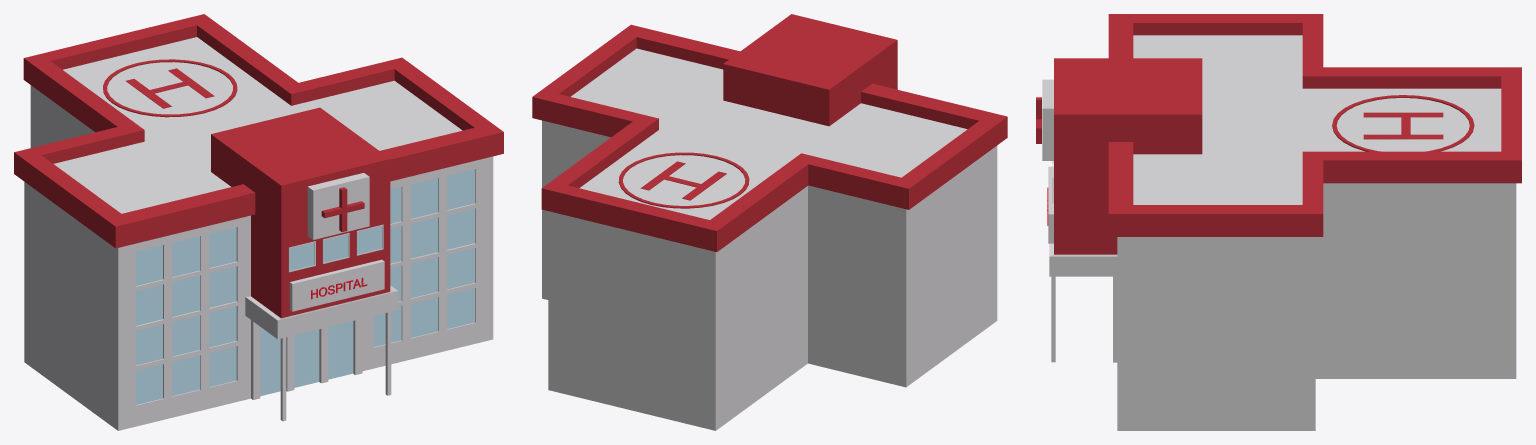
The model's file is Hospital.fbx.
The picture shows the model from 3 angles, left to right: view 1: azimuth 30°, elevation 25°; view 2: azimuth 150°, elevation 25°; view 3: azimuth 270°, elevation 25°; orthographic projection. The views are drawn at different scales.
Parts seen in each view (by area): view 1: Cube.037, Cube.039, Cube.038, Circle, Plane.037, Plane.041, Plane.058, Plane.062, Plane.047, Plane.044, Plane.048, Plane.042 (+18 smaller); view 2: Cube.037, Circle, Text.003; view 3: Cube.037, Text.003, Circle, Cube.039, Cube.038.
Boxes of the visible parts, x1=… form: Cube.037: x1=14, y1=14, x2=503, y2=430; Cube.039: x1=307, y1=173, x2=369, y2=239; Cube.038: x1=289, y1=259, x2=384, y2=311; Circle: x1=103, y1=59, x2=237, y2=117; Plane.037: x1=172, y1=275, x2=199, y2=316; Plane.041: x1=209, y1=266, x2=236, y2=307; Plane.058: x1=411, y1=217, x2=438, y2=258; Plane.062: x1=447, y1=208, x2=474, y2=249; Plane.047: x1=135, y1=284, x2=162, y2=325; Plane.044: x1=172, y1=315, x2=199, y2=356; Plane.048: x1=135, y1=324, x2=162, y2=365; Plane.042: x1=209, y1=306, x2=236, y2=347; Cube.037: x1=532, y1=14, x2=1007, y2=430; Circle: x1=618, y1=152, x2=749, y2=208; Text.003: x1=640, y1=161, x2=726, y2=200; Cube.037: x1=1049, y1=14, x2=1521, y2=430; Text.003: x1=1363, y1=112, x2=1443, y2=139; Circle: x1=1332, y1=95, x2=1474, y2=151; Cube.039: x1=1042, y1=79, x2=1053, y2=160; Cube.038: x1=1048, y1=166, x2=1053, y2=243.
Bounding box in the file's own units: 74791 × 43268 × 76836.
